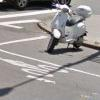Motorcycle: (40, 2, 95, 54)
